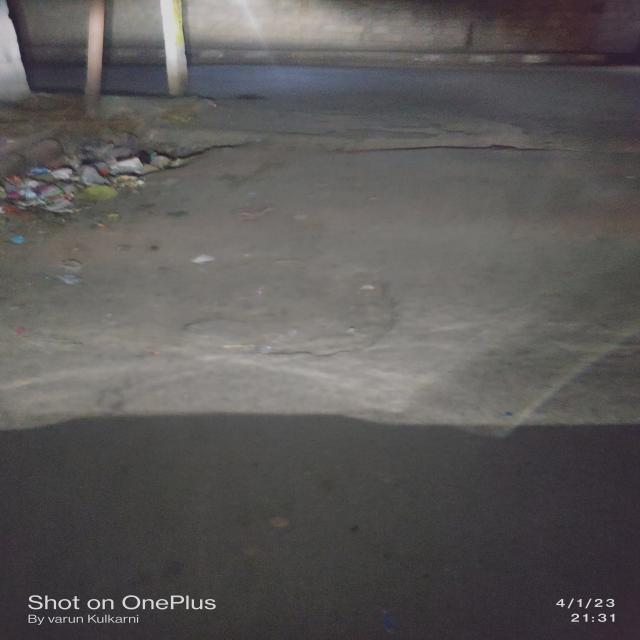potholes: (171, 248, 428, 374)
